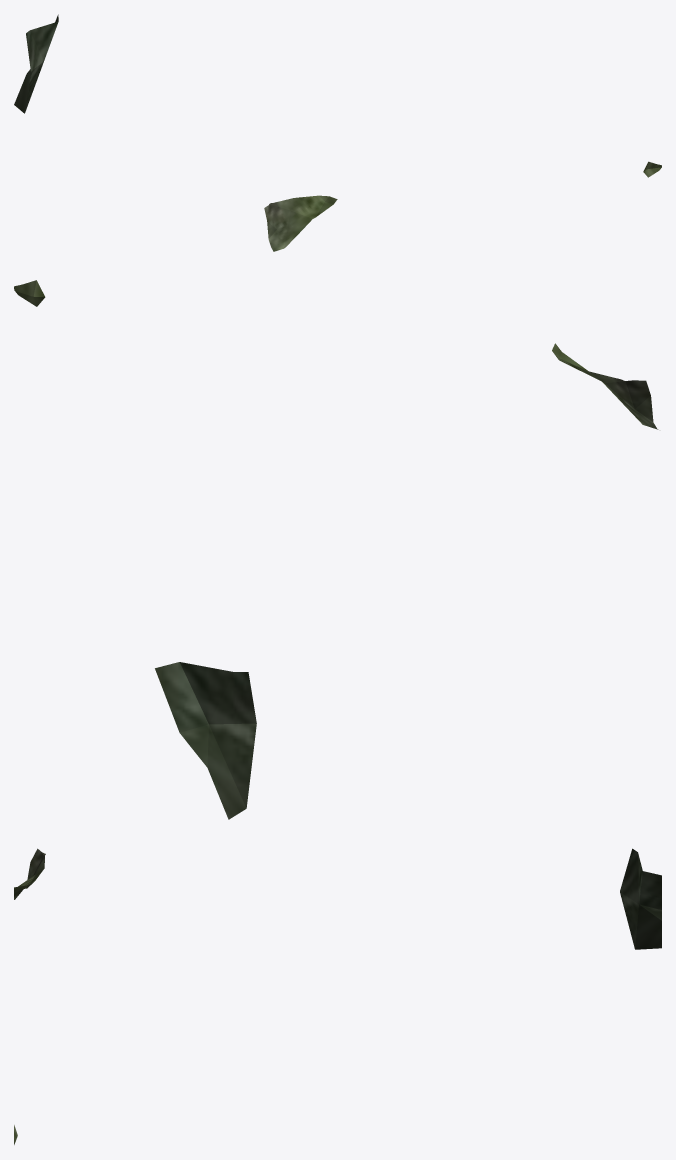
The picture shows the model from 3 angles, top to bottom: view 1: azimuth 30°, elevation 25°; view 2: azimuth 150°, elevation 25°; view 3: azimuth 270°, elevation 25°; orthographic projection. The views are drawn at different scales.
Size of the model in its own units: 2.55 by 0.5089 by 2.95.
Materials: 1 (1 with a texture image).
